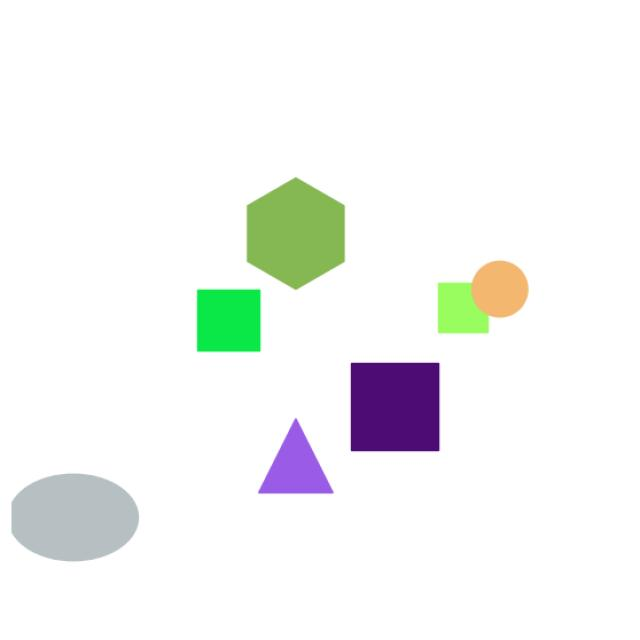Circle: (460, 253, 536, 322)
Hexagon: (230, 175, 366, 302)
Oval: (8, 458, 154, 564)
Triangle: (254, 408, 351, 508)
square: (338, 348, 462, 462), (185, 284, 280, 369), (433, 273, 499, 342)
